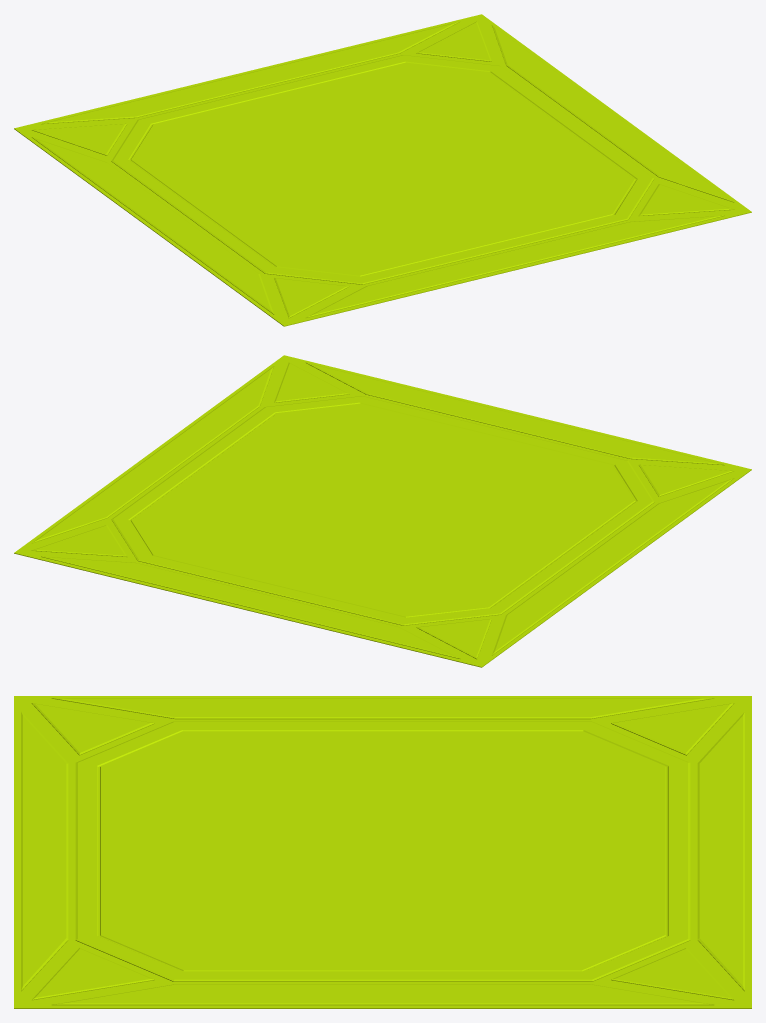
File: Floor01.fbx
3 views of the same model, one above another, from view 1: azimuth 30°, elevation 25°; view 2: azimuth 150°, elevation 25°; view 3: azimuth 270°, elevation 25° (orthographic). The views are drawn at different scales.
Visible parts, largest first — view 1: SM_Floor01; view 2: SM_Floor01; view 3: SM_Floor01.
Boxes of the visible parts, x1,y1,x2,y2 form: SM_Floor01: (14,14,751,326); SM_Floor01: (14,355,751,667); SM_Floor01: (14,696,751,1008).
Size of the model in its own units: 400 by 1.25 by 400.
